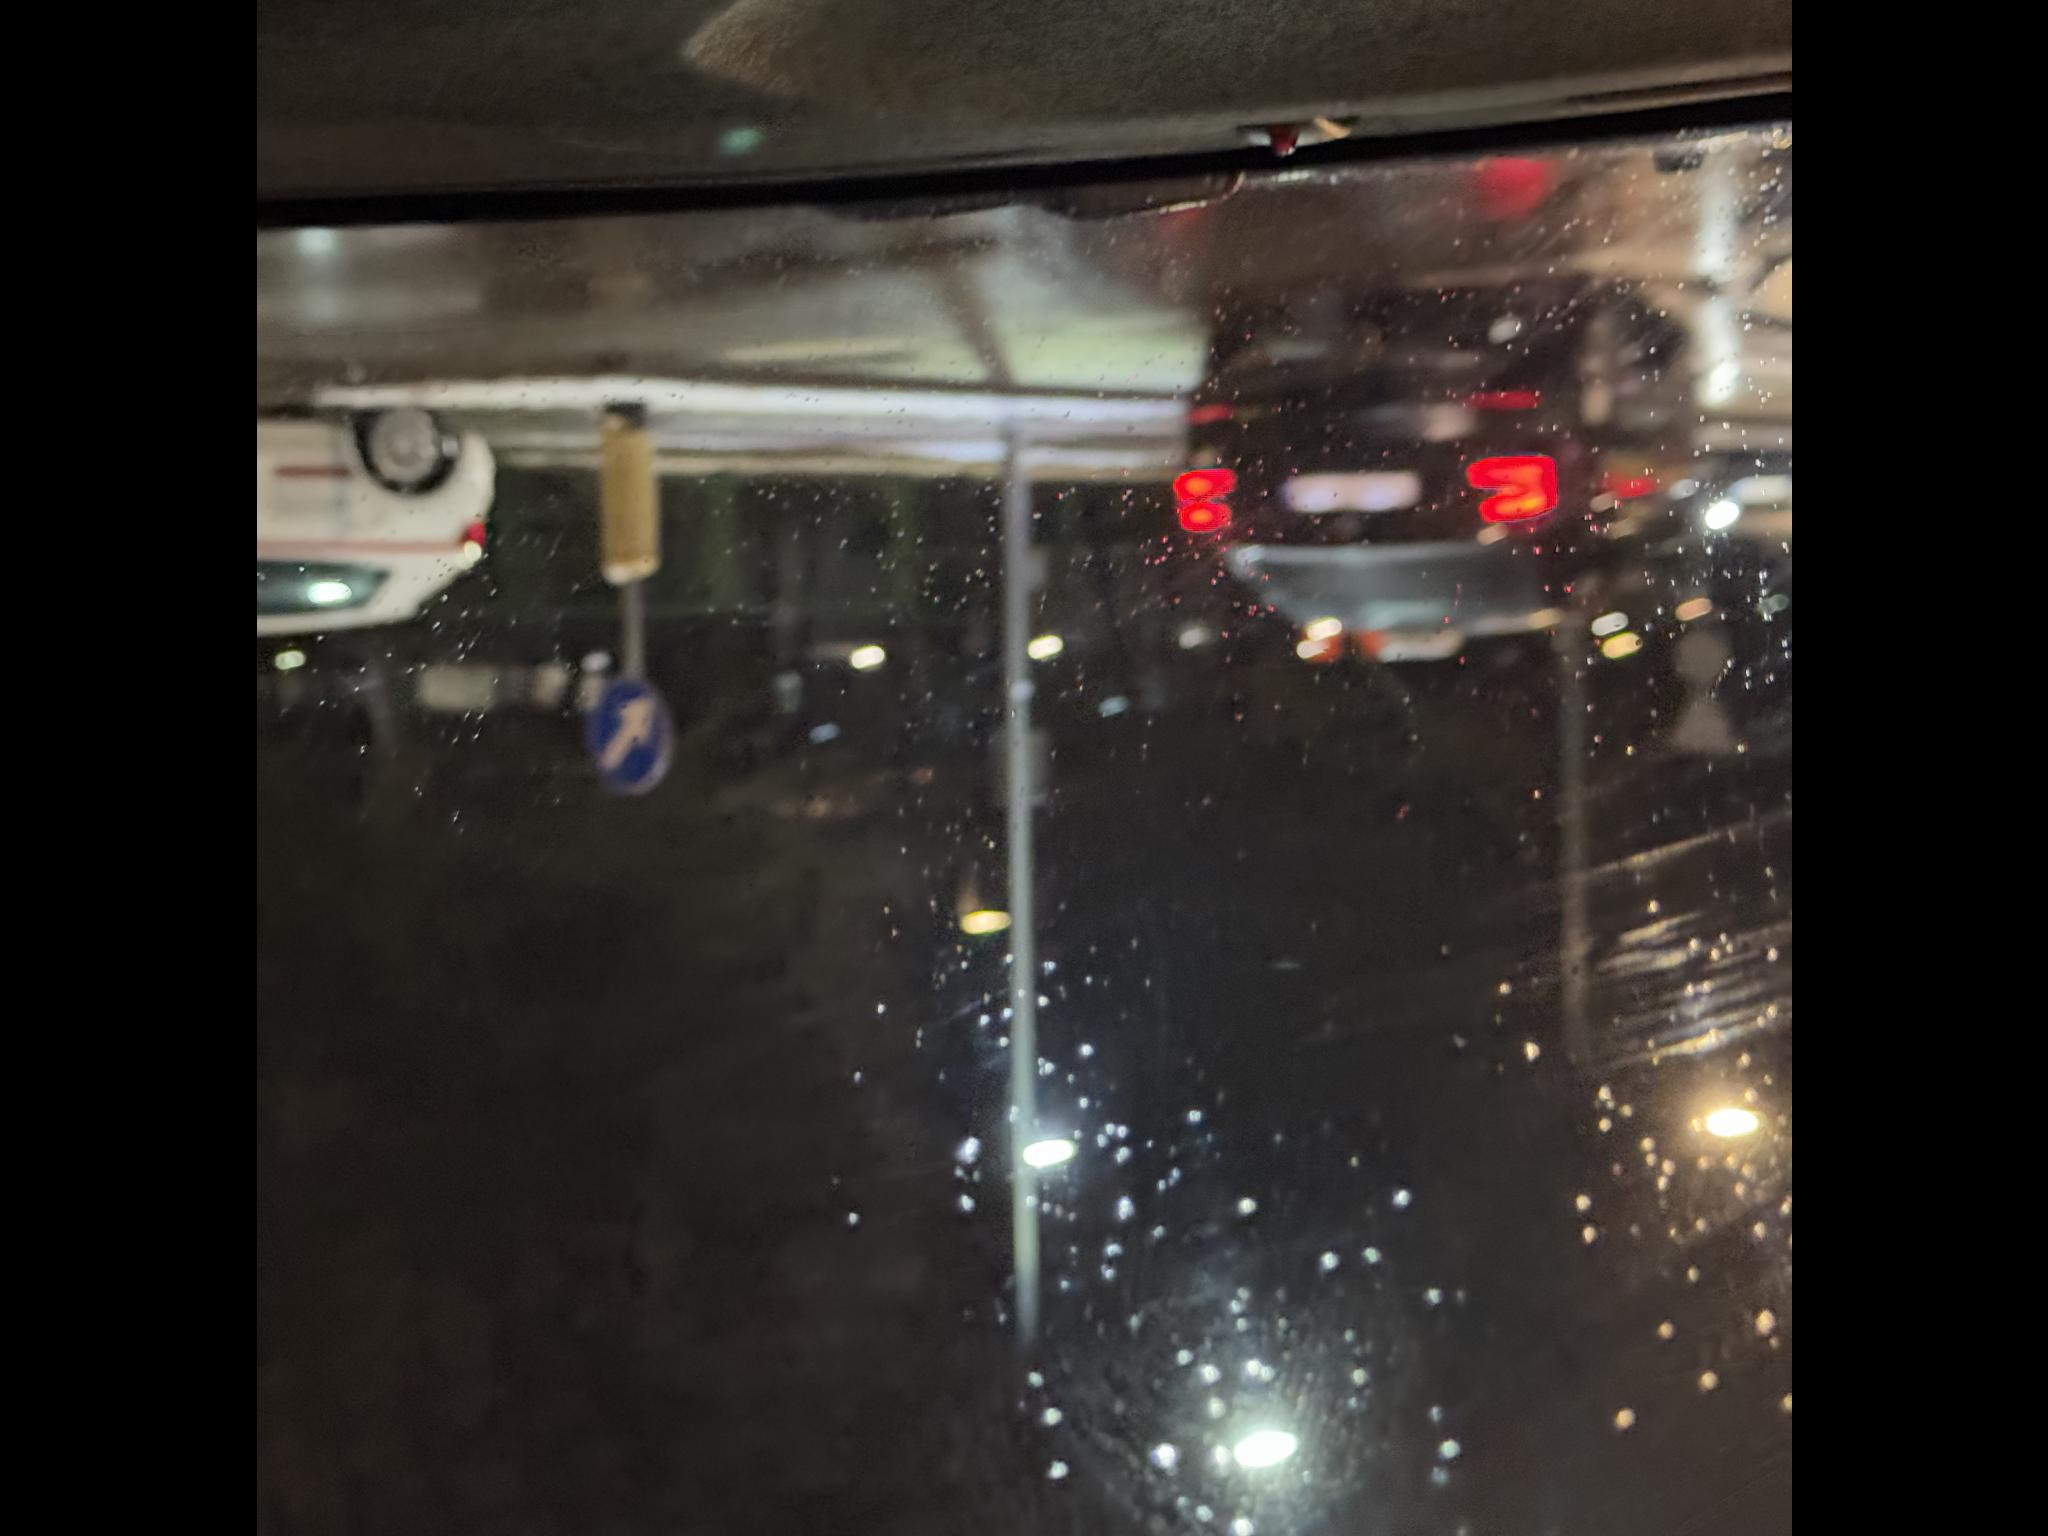mandatory: (676, 1374, 800, 1456)
